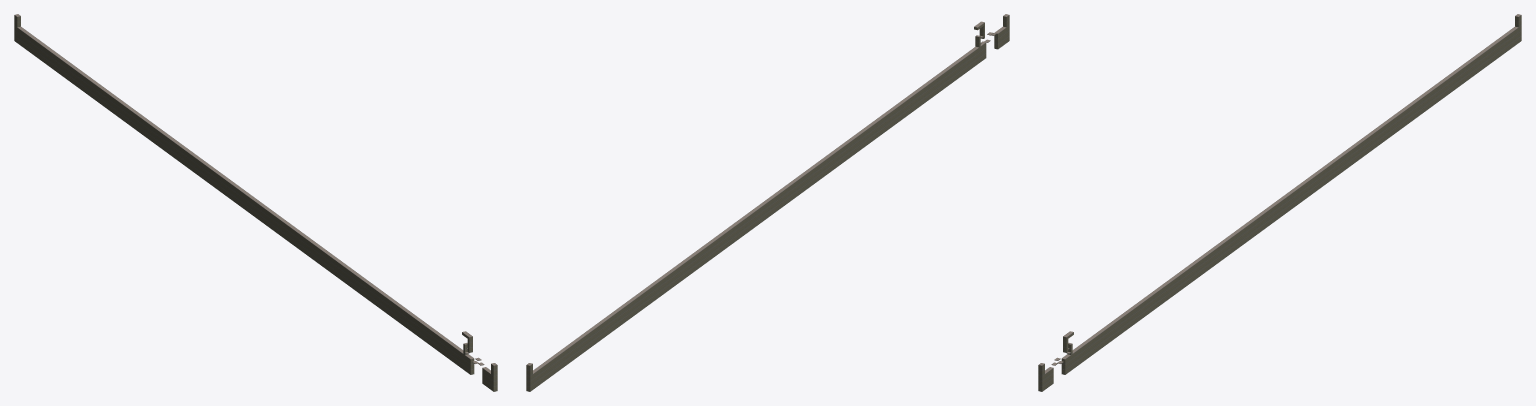
Rendered from Level_Blockout_01.obj.
3 renders of one model, left to right at view 1: azimuth 30°, elevation 25°; view 2: azimuth 150°, elevation 25°; view 3: azimuth 330°, elevation 25°, orthographic.
Size of the model in its own units: 3 by 28 by 664.
